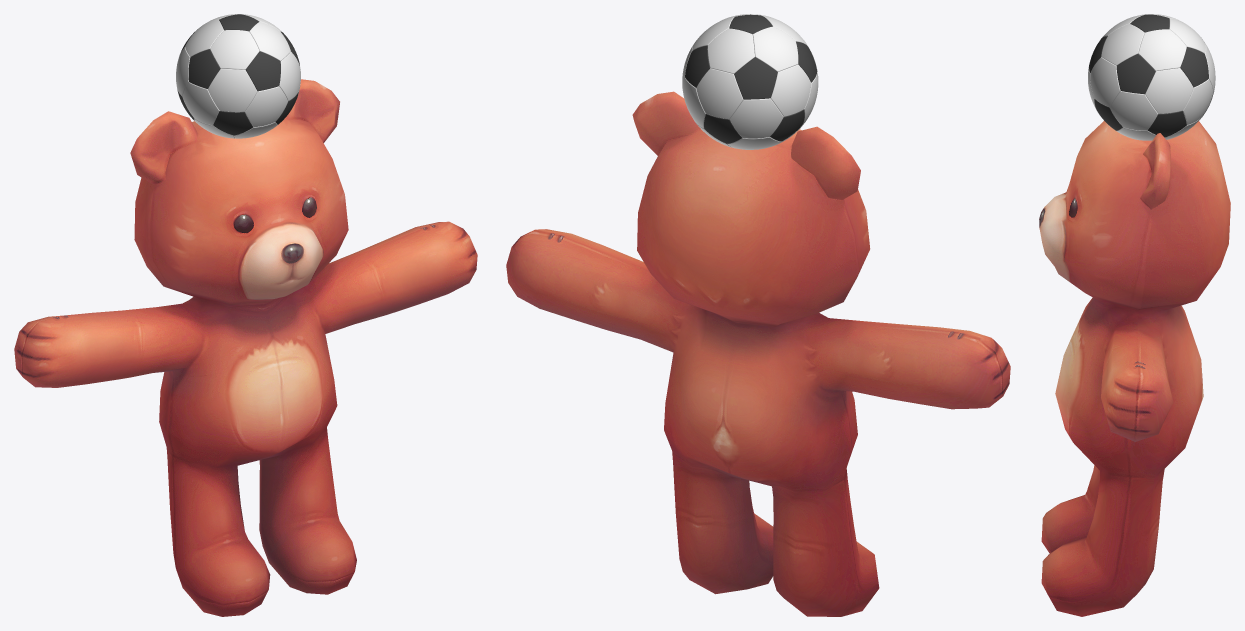
The model's file is OsitoBrasilero.glb.
3 renders of one model, left to right at view 1: azimuth 30°, elevation 25°; view 2: azimuth 150°, elevation 25°; view 3: azimuth 270°, elevation 25°, orthographic. The views are drawn at different scales.
Visible parts, largest first — view 1: Osito, Brasil; view 2: Osito, Brasil; view 3: Osito, Brasil.
Boxes of the visible parts, x1=… form: Osito: x1=14, y1=79, x2=477, y2=616; Brasil: x1=176, y1=14, x2=300, y2=138; Osito: x1=506, y1=91, x2=1010, y2=616; Brasil: x1=682, y1=14, x2=818, y2=149; Osito: x1=1039, y1=121, x2=1230, y2=616; Brasil: x1=1088, y1=14, x2=1215, y2=140.
Size of the model in its own units: 2.11 by 2.51 by 0.7668.
3 materials, 1 textured.
